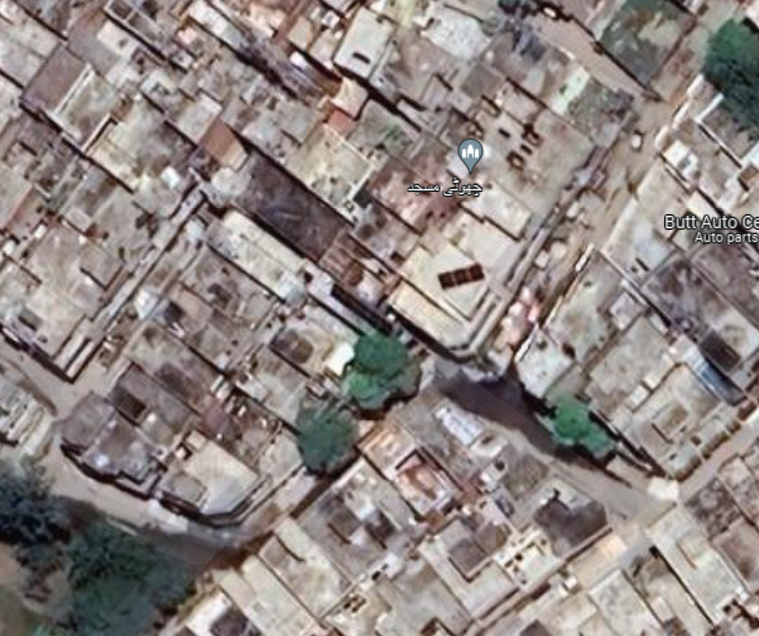solar-panel: (432, 264, 494, 287)
